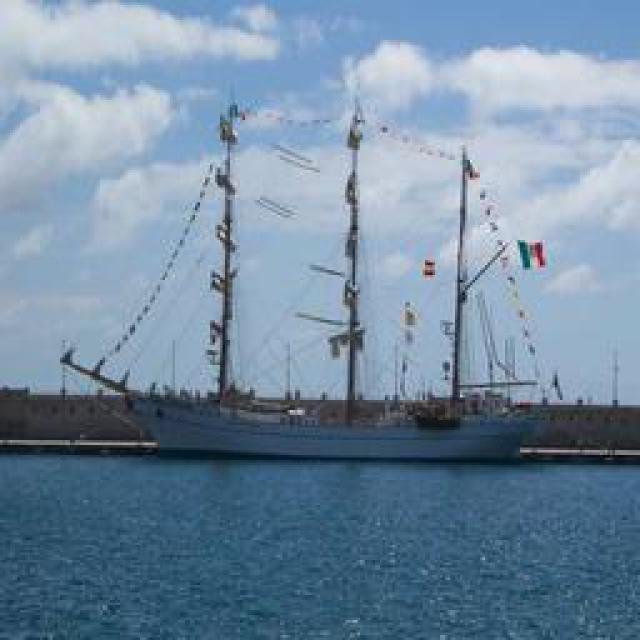Ship: (43, 80, 601, 460)
